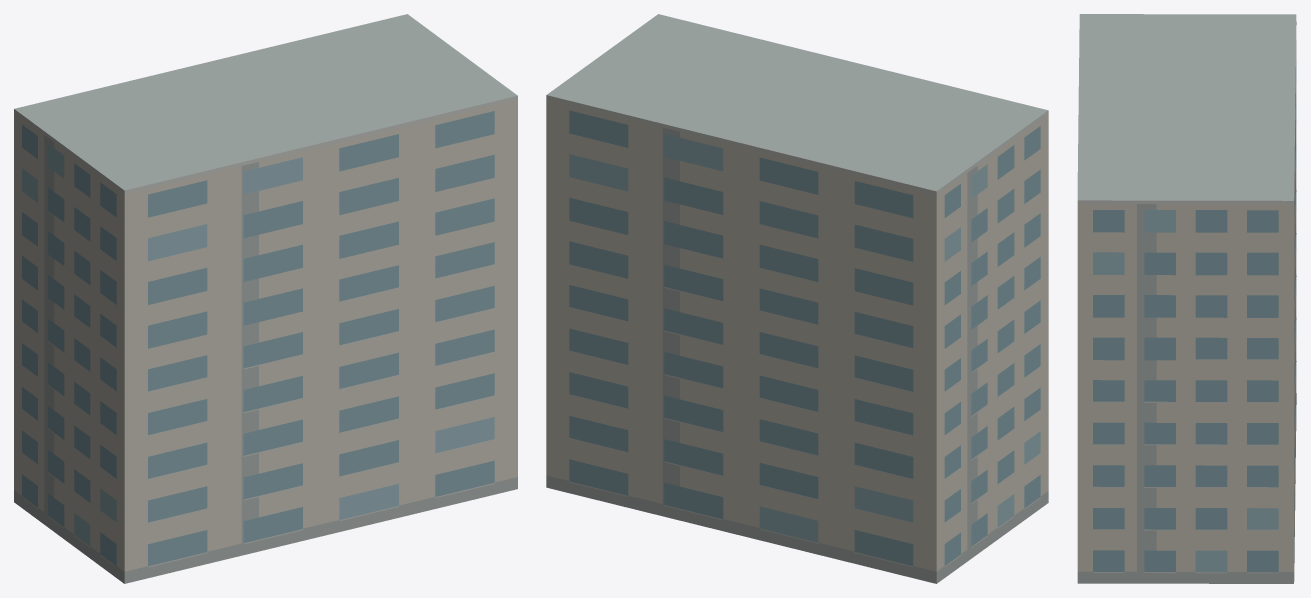
File: residential-9d70aefc-0c58-41cd-9c8b-0a4ead098819.glb
The picture shows the model from 3 angles, left to right: view 1: azimuth 30°, elevation 25°; view 2: azimuth 150°, elevation 25°; view 3: azimuth 270°, elevation 25°; orthographic projection. The views are drawn at different scales.
Visible parts, largest first — view 1: residential-9d70aefc-0c58-41cd-9c8b-0a4ead098819.tmp; view 2: residential-9d70aefc-0c58-41cd-9c8b-0a4ead098819.tmp; view 3: residential-9d70aefc-0c58-41cd-9c8b-0a4ead098819.tmp.
Part boxes in pixels (bbox=[...]): residential-9d70aefc-0c58-41cd-9c8b-0a4ead098819.tmp: bbox=[14, 14, 517, 583]; residential-9d70aefc-0c58-41cd-9c8b-0a4ead098819.tmp: bbox=[546, 14, 1048, 583]; residential-9d70aefc-0c58-41cd-9c8b-0a4ead098819.tmp: bbox=[1077, 14, 1296, 583].
Size of the model in its own units: 27.21 by 26 by 13.48.
